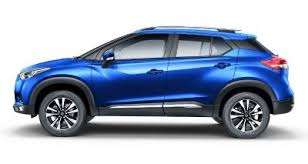Nissan: (11, 34, 285, 135)
